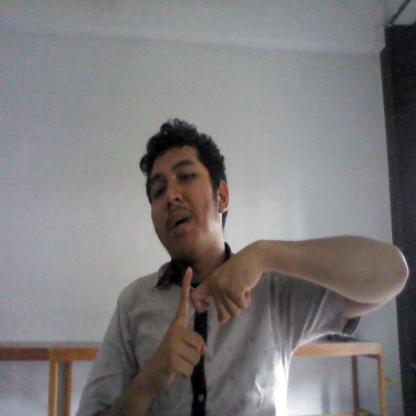K: (156, 244, 260, 392)
